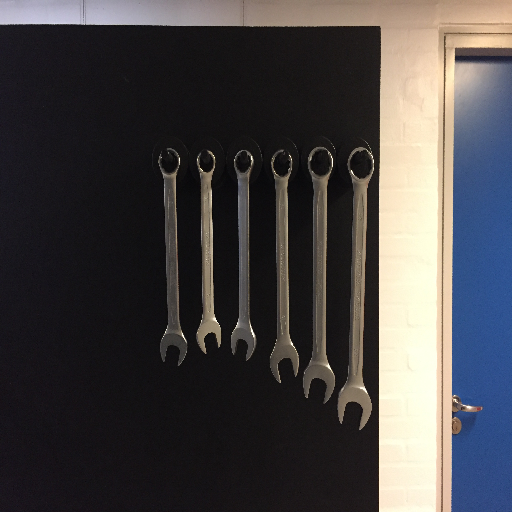bottom: (336, 383, 373, 430), (268, 338, 300, 384), (302, 361, 336, 403), (159, 326, 188, 367), (228, 321, 257, 362), (195, 316, 223, 354)
top: (345, 145, 377, 184), (305, 144, 336, 182), (269, 146, 295, 181), (156, 145, 182, 179), (231, 148, 256, 178), (194, 147, 218, 177)
